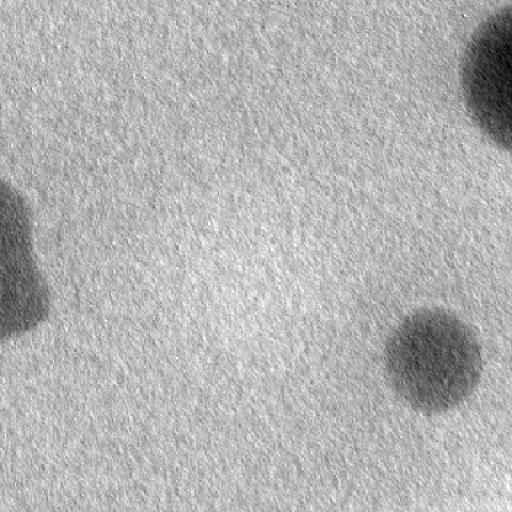Nanoparticles: (385, 305, 485, 416), (462, 5, 512, 151), (0, 248, 49, 336), (0, 178, 35, 252)
